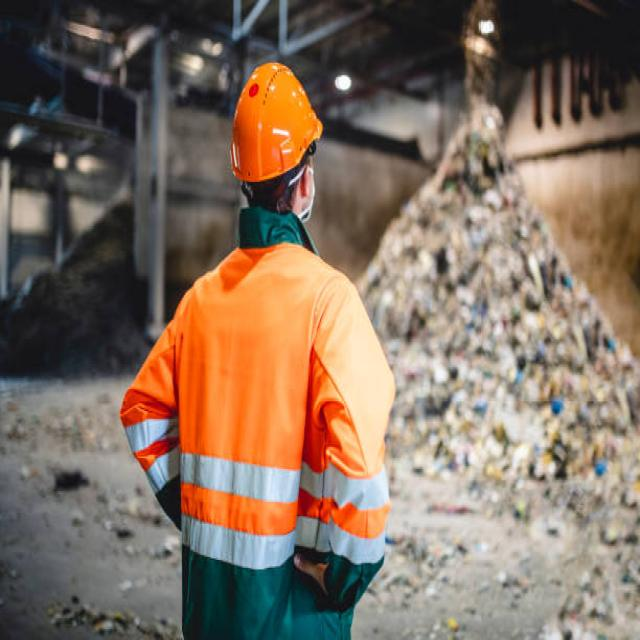trash: (392, 155, 635, 620)
